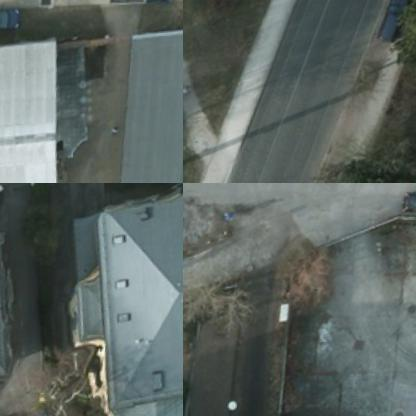car: (376, 0, 415, 45), (0, 1, 18, 33), (400, 186, 415, 215)
